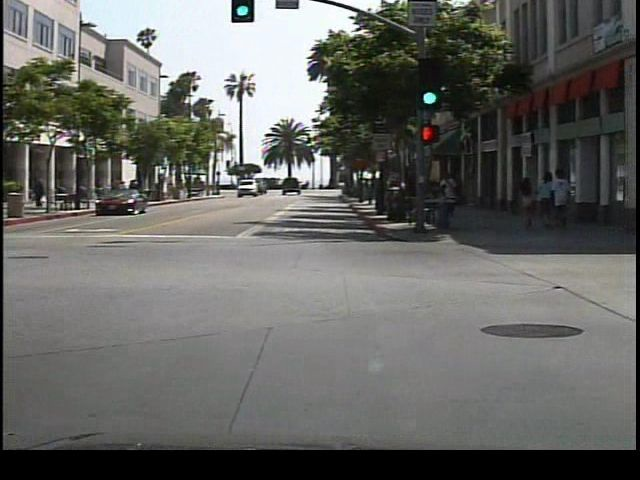person: (444, 166, 471, 221), (35, 174, 52, 212)
